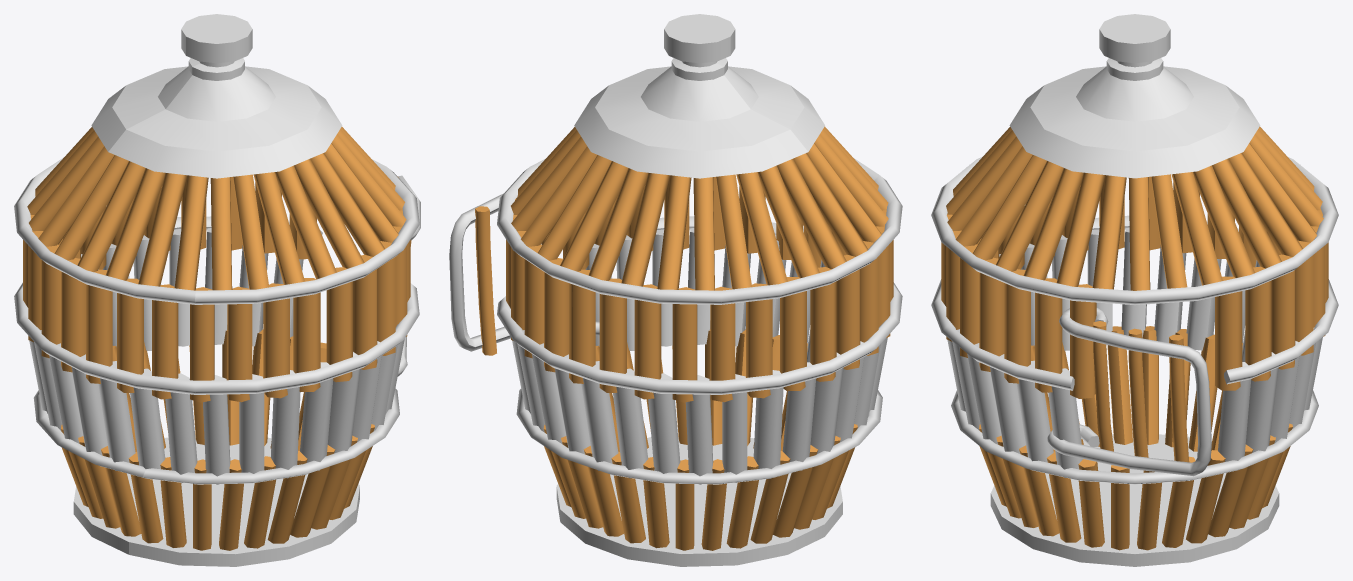
The model's file is wood_jail_low.fbx.
3 views of the same model, side by side, from view 1: azimuth 30°, elevation 25°; view 2: azimuth 150°, elevation 25°; view 3: azimuth 270°, elevation 25° (orthographic).
Parts seen in each view (by area): view 1: wood_jail_02_low, wood_jail_01_low, wood_jail_04_low, wood_jail_03_low; view 2: wood_jail_02_low, wood_jail_01_low, wood_jail_04_low, wood_jail_03_low; view 3: wood_jail_02_low, wood_jail_01_low, wood_jail_04_low, wood_jail_03_low.
Boxes of the visible parts, x1,y1,x2,y2 form: wood_jail_02_low: (27, 127, 411, 550); wood_jail_01_low: (14, 14, 420, 566); wood_jail_04_low: (23, 175, 410, 402); wood_jail_03_low: (29, 228, 404, 484); wood_jail_02_low: (475, 126, 888, 550); wood_jail_01_low: (449, 14, 902, 566); wood_jail_04_low: (506, 176, 893, 402); wood_jail_03_low: (512, 228, 887, 484); wood_jail_02_low: (946, 126, 1323, 550); wood_jail_01_low: (931, 14, 1338, 566); wood_jail_04_low: (941, 175, 1328, 398); wood_jail_03_low: (947, 228, 1322, 477).
Bounding box in the file's own units: 144 × 167 × 130.
